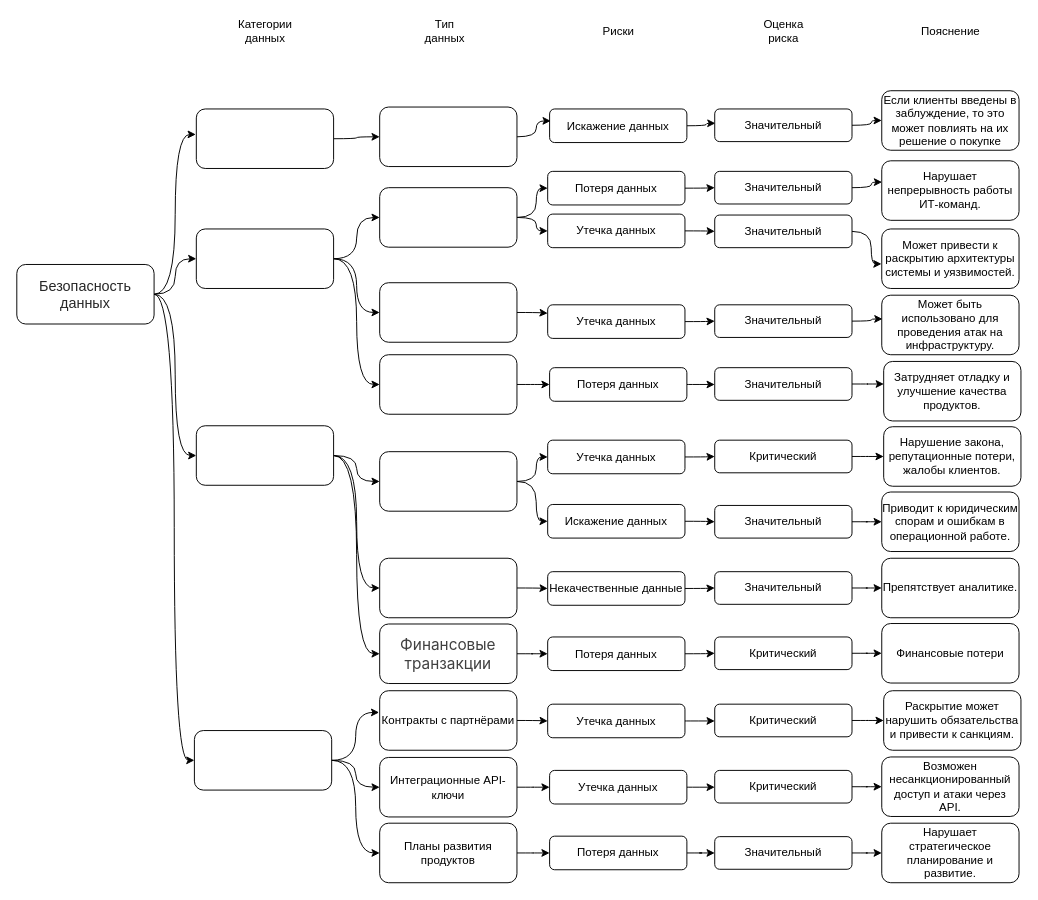
This 1038x900 diagram has some shape labels left out. The centre of each missing label's shape, as x and y in pixels:
"Внутренние" goes at point (264, 258).
"История подбора и бронирований" goes at point (448, 587).
"Конфиден-циальные" goes at point (264, 455).
"Метаданные об инфраструктуре" goes at point (448, 312).
"Описания объектов недвижимости" goes at point (448, 136).
"Отчёты по тестированию" goes at point (448, 384).
"Персональные данные клиентов и собственников" goes at point (448, 481).
"Публичные" goes at point (264, 138).
"Секретные" goes at point (262, 760).
"Техническая документация" goes at point (448, 217).
